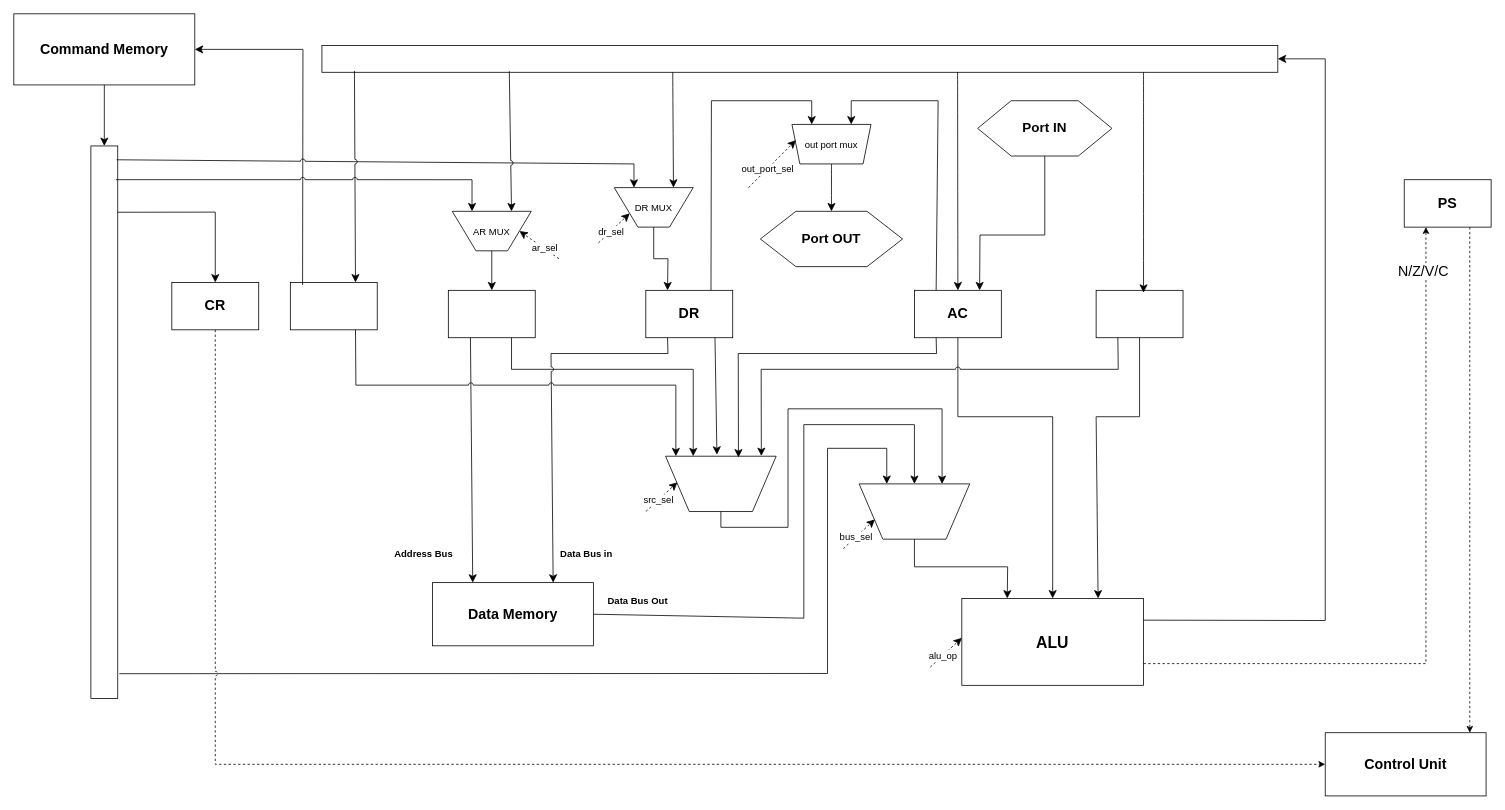
Image size: 1505x810. Some labels were removed from this diagram. The shapes that lost their labels are listed below. From the top down, each one's box as (x1, y1, x2, y2) in pixels, then its label:
(321, 45, 1278, 72): ALU result bus
(290, 282, 377, 330): IP
(448, 290, 535, 338): AR
(1095, 290, 1183, 338): BR
(90, 145, 118, 699): Command memory data bus
(665, 455, 776, 512): SRC MUX
(858, 483, 970, 539): BUS MUX
